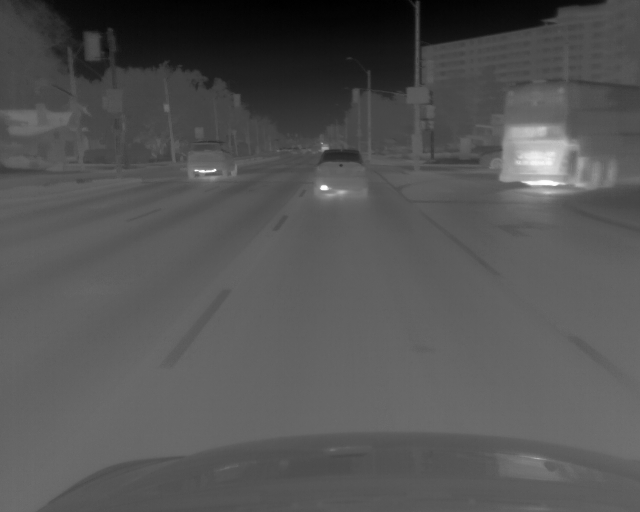car: (498, 78, 640, 190), (315, 149, 366, 201), (187, 140, 239, 181), (479, 147, 506, 175)
